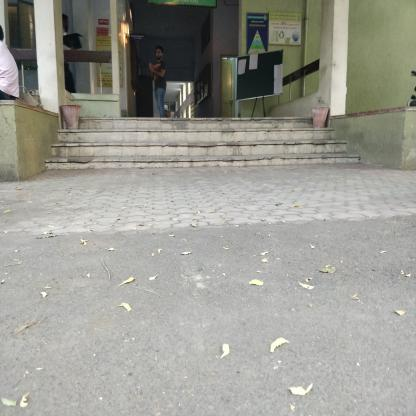stairs: (82, 116, 309, 178)
